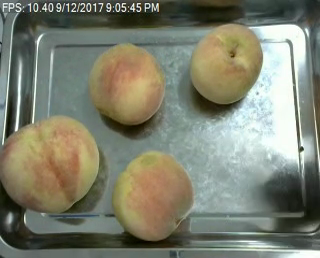Peach: (0, 114, 99, 216), (113, 149, 194, 241), (88, 42, 166, 125), (190, 22, 265, 105)
